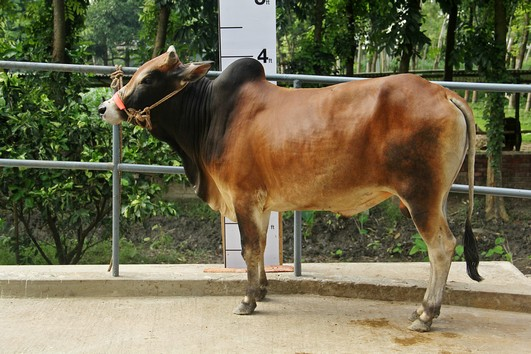cow: (95, 39, 491, 334)
